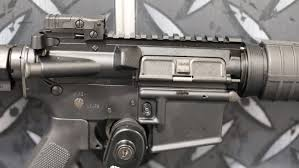gun: (1, 13, 298, 167)
